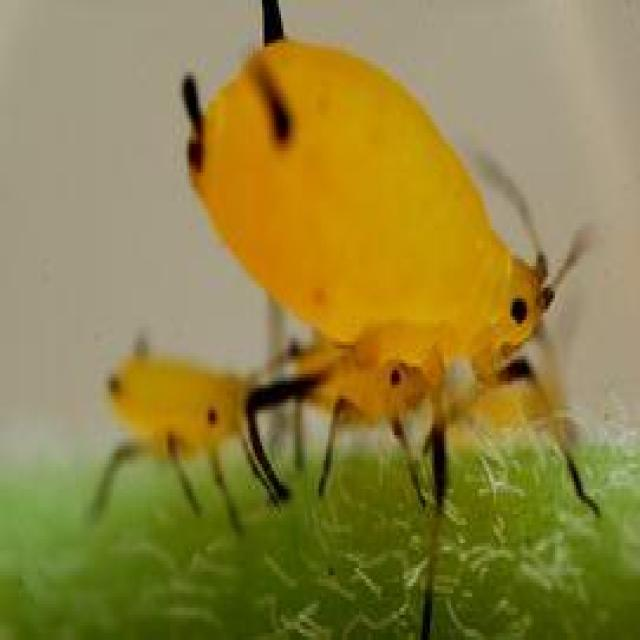Aphids: (115, 41, 606, 605)
